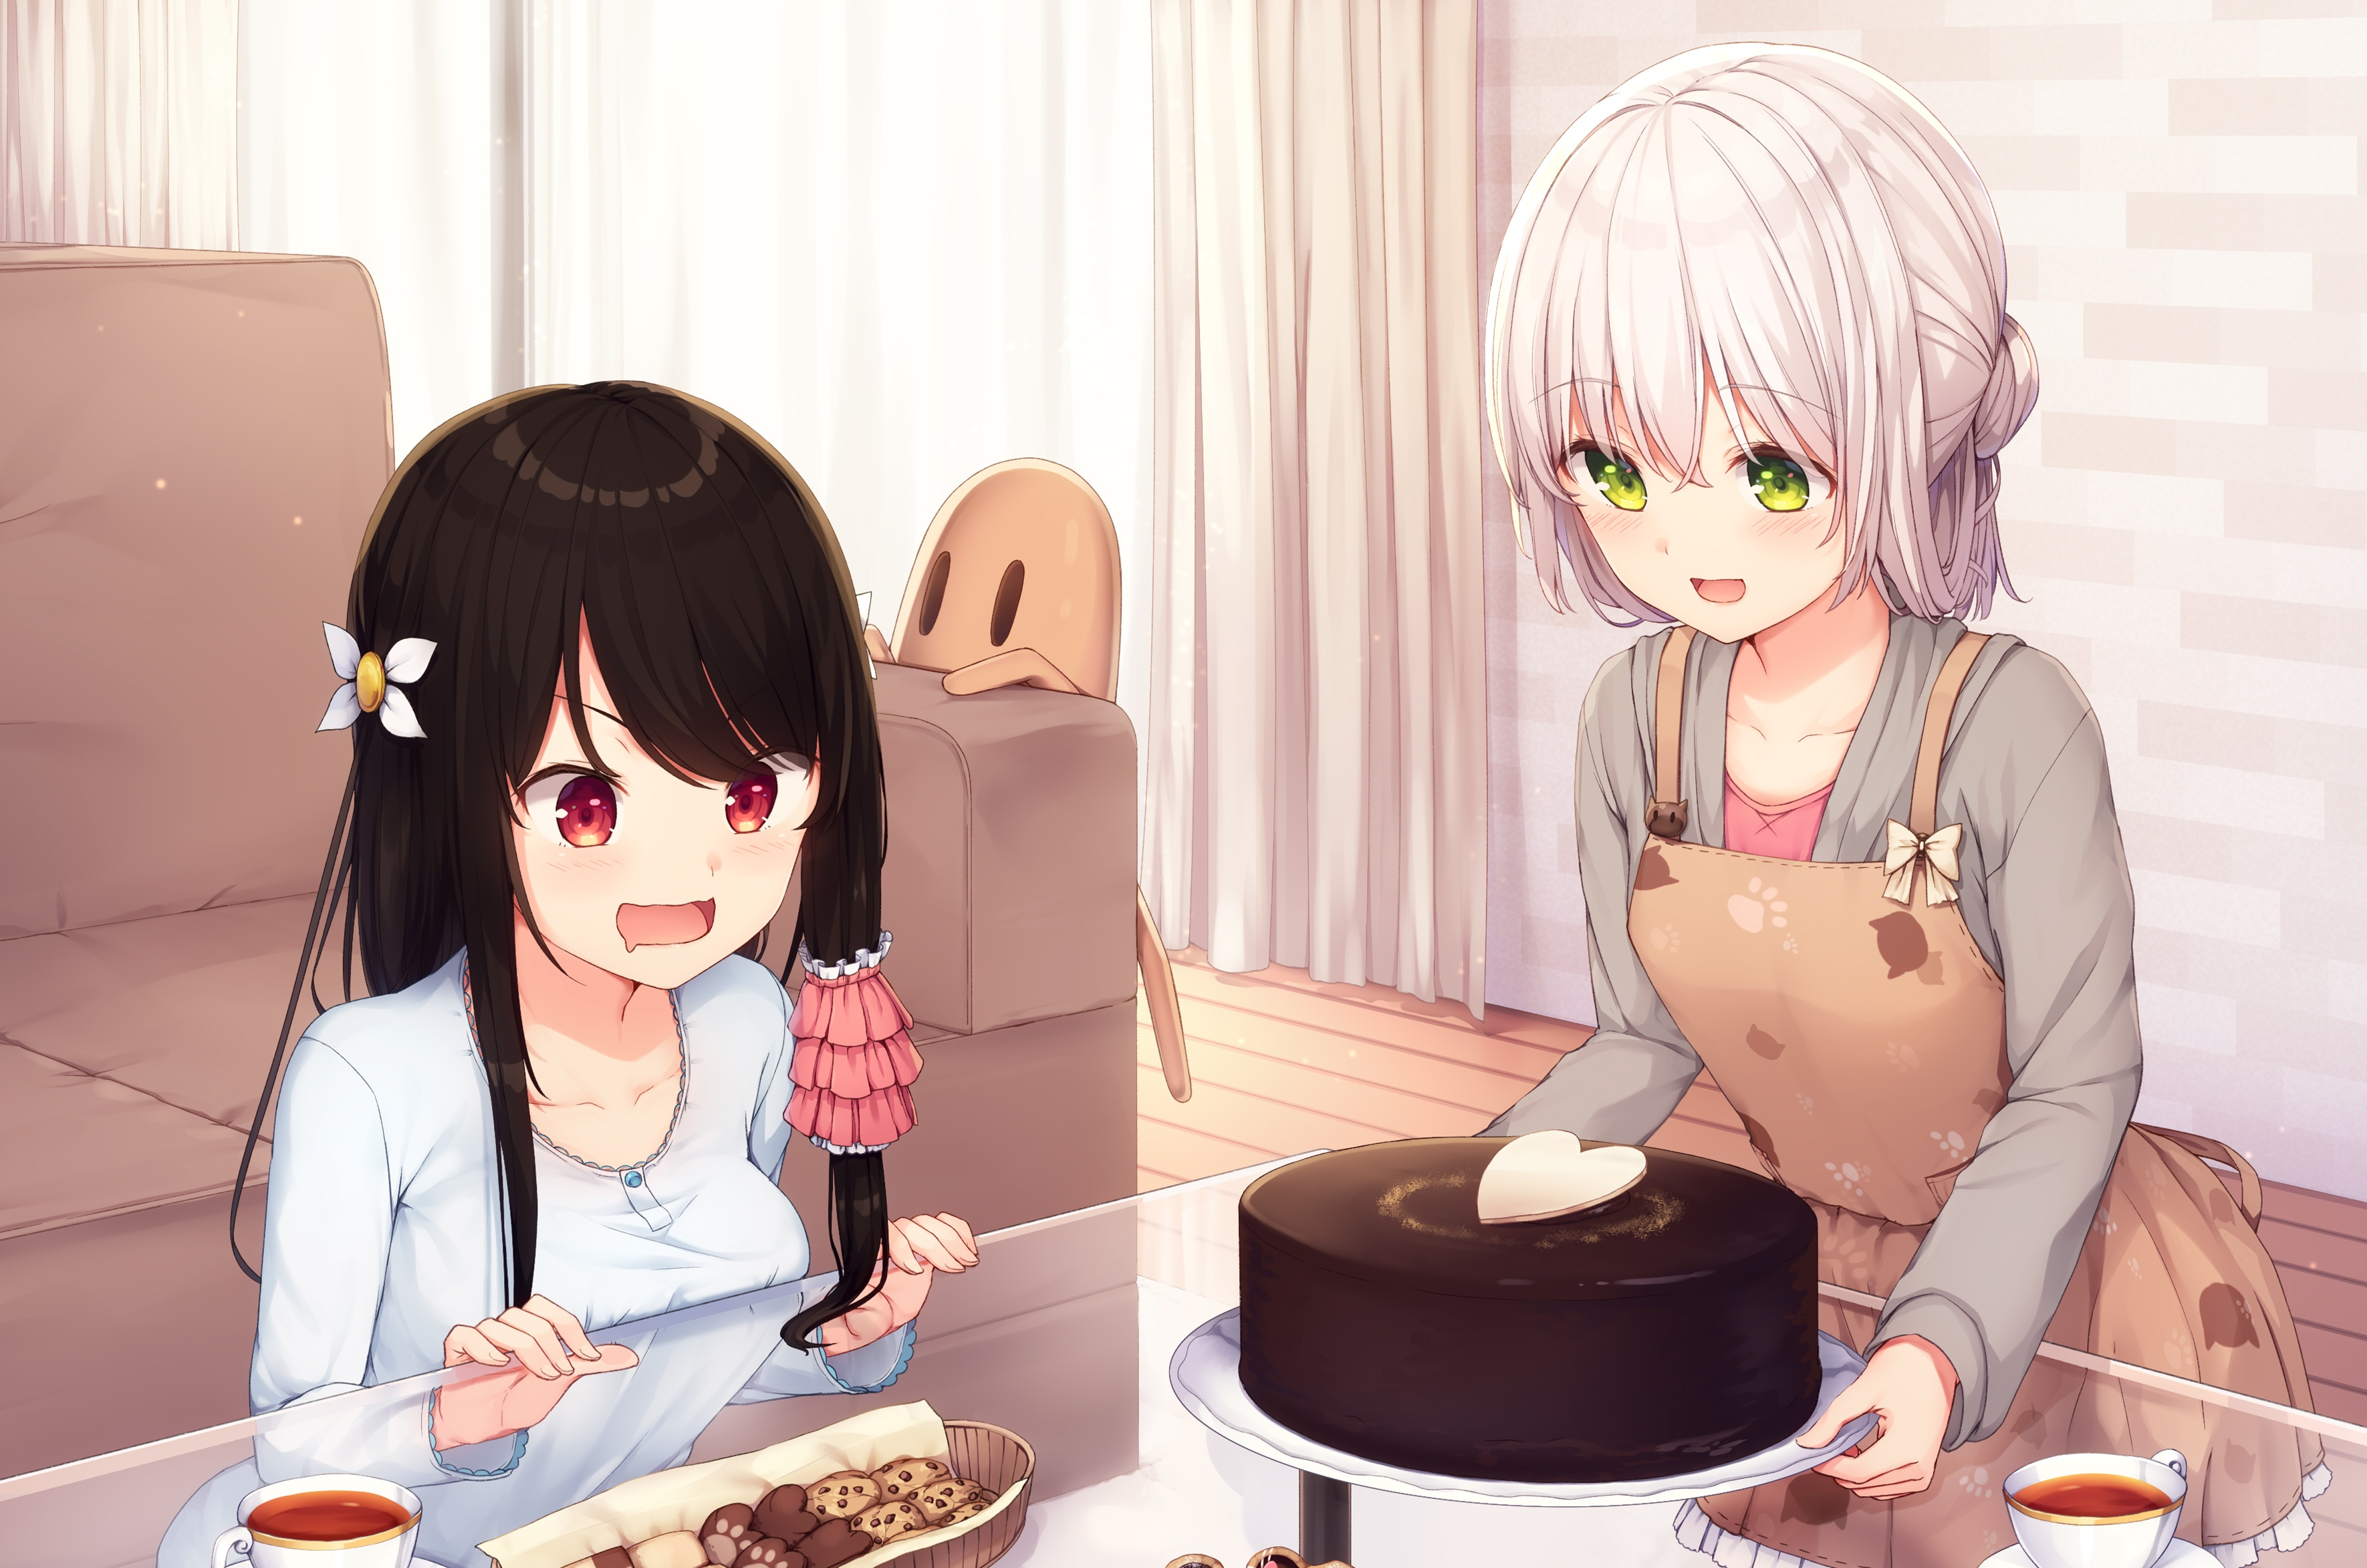纸片人正脸: (325, 365, 892, 1027), (1466, 15, 2033, 650)
